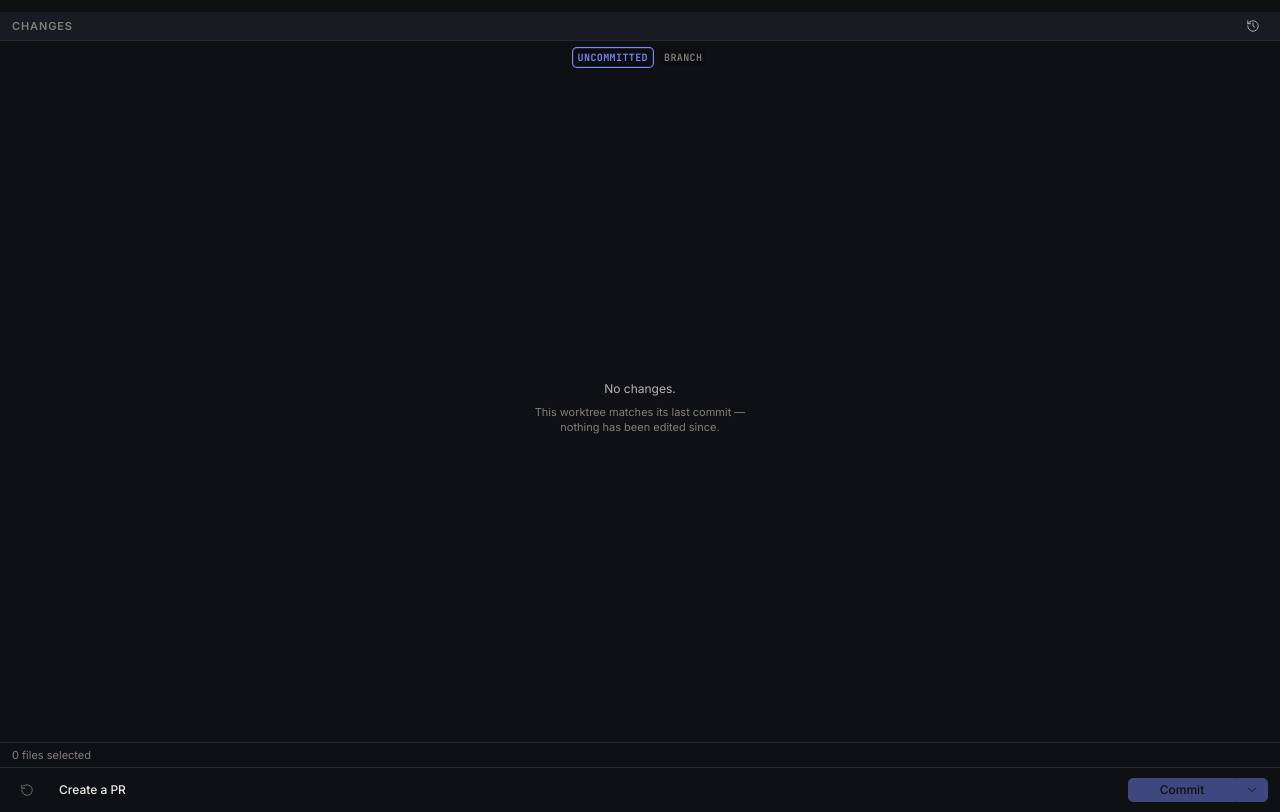
Scenario: the footer action control › CHG-FR-35, CHG-FR-36, CHG-FR-37 makes Push selectable once the branch has something to publish
Check: the text "No changes." is shown, box 604,381 -> 676,397
Click the button named "Choose action" at [1252, 790], box 1236,778 -> 1268,802
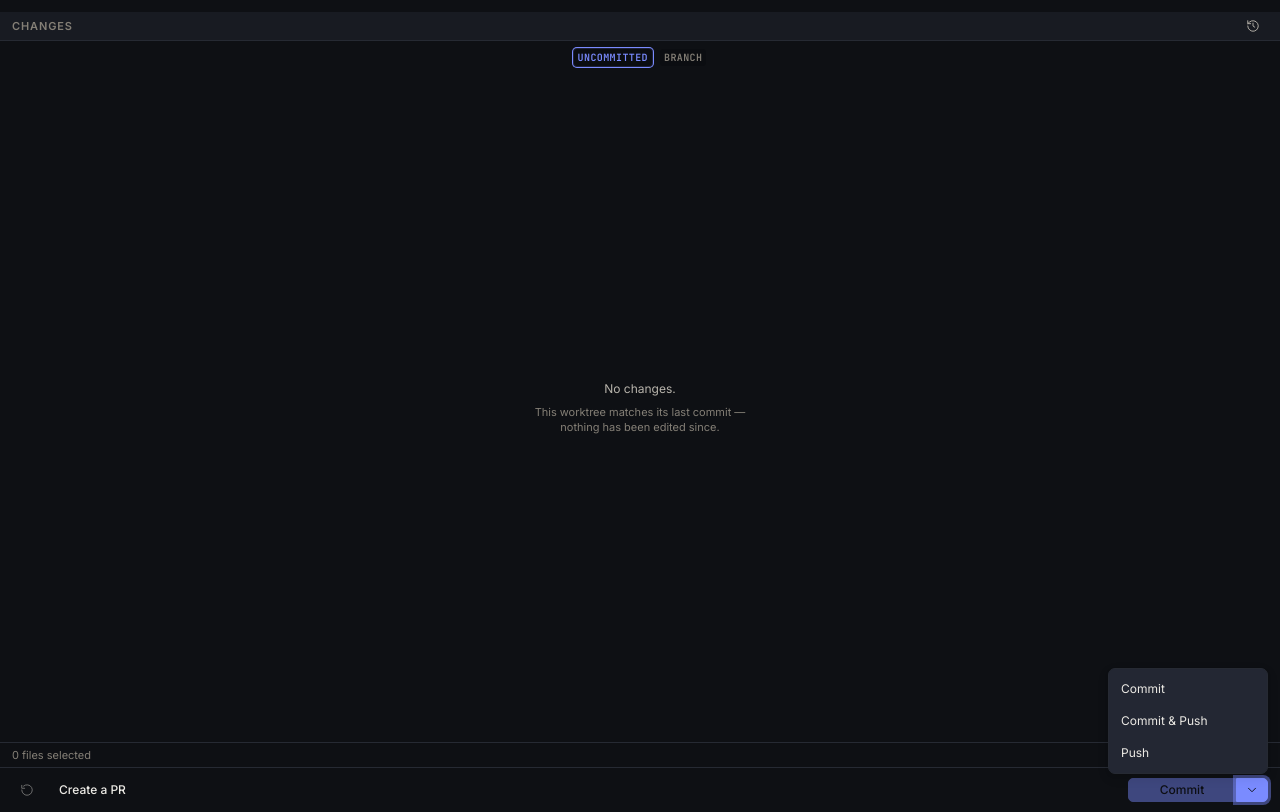
Click the option "Push" at [1135, 752], box 1121,745 -> 1149,760
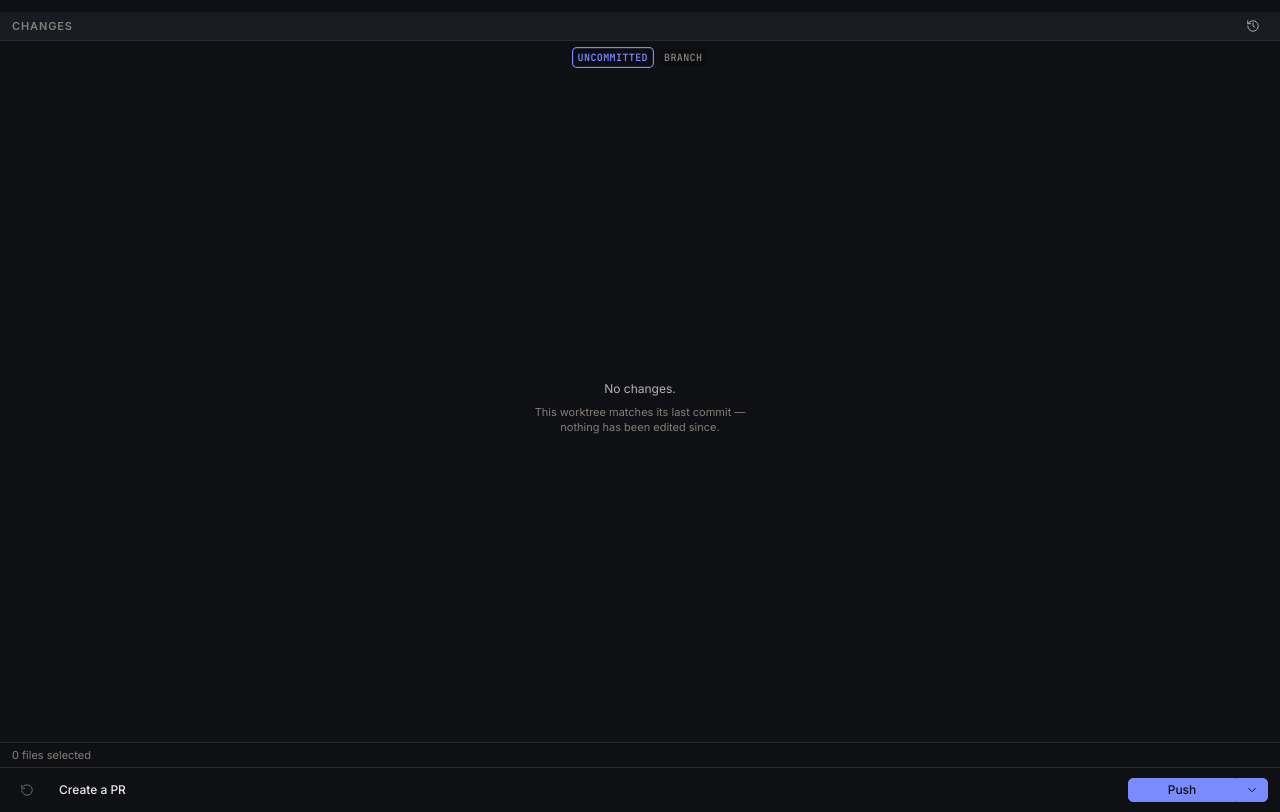
Check: the button "Push" is shown, box 1128,778 -> 1236,802
Check: the button "Push" is enabled, box 1128,778 -> 1236,802
